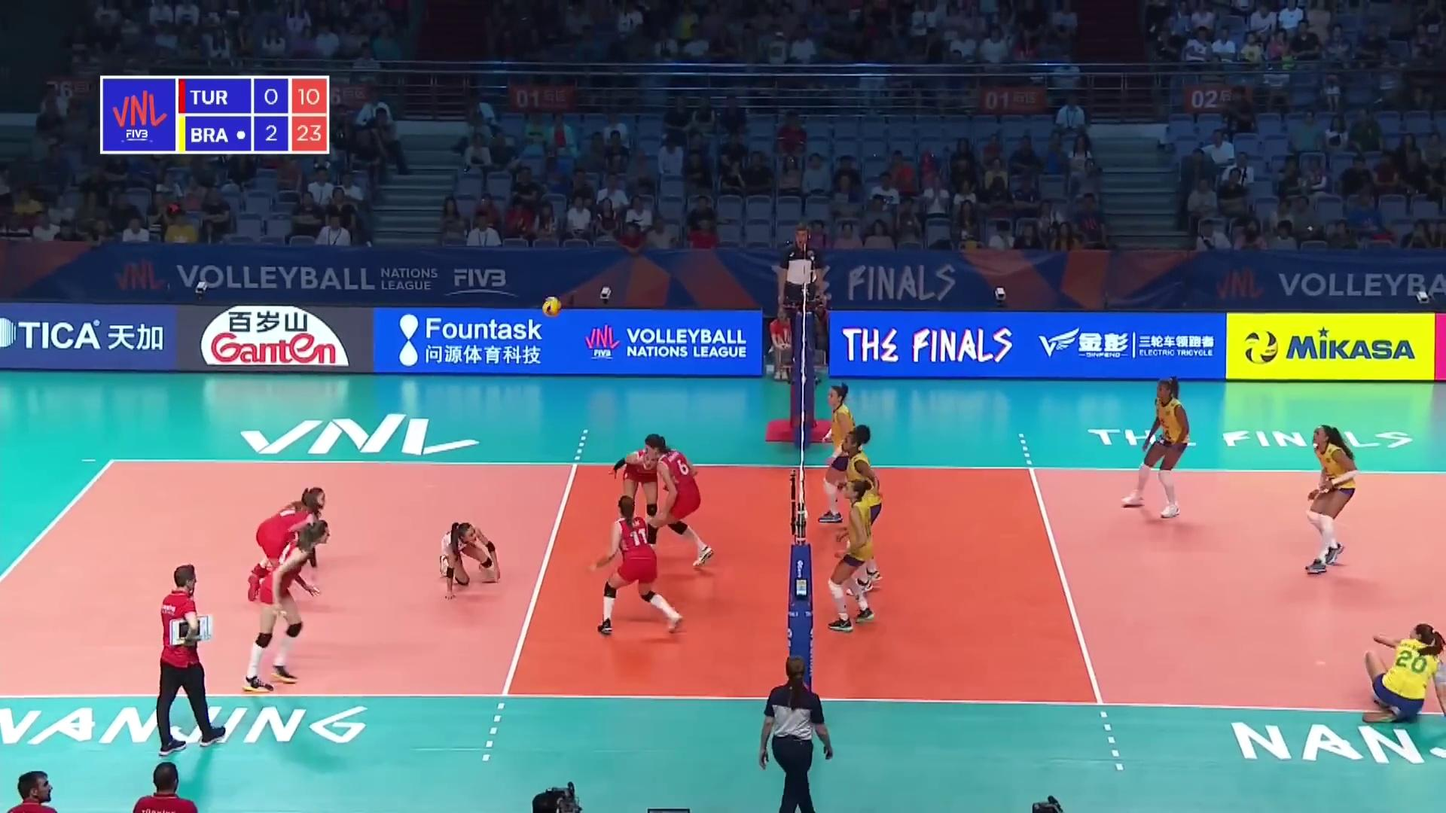player: (241, 520, 331, 692), (594, 499, 685, 641), (639, 437, 720, 570), (1119, 379, 1193, 518), (1360, 618, 1446, 729), (244, 487, 327, 602), (1299, 428, 1359, 575), (814, 383, 871, 531), (607, 444, 672, 563), (835, 428, 881, 595), (828, 482, 876, 633), (438, 524, 503, 603)
refree: (759, 658, 833, 813), (777, 223, 827, 369)
